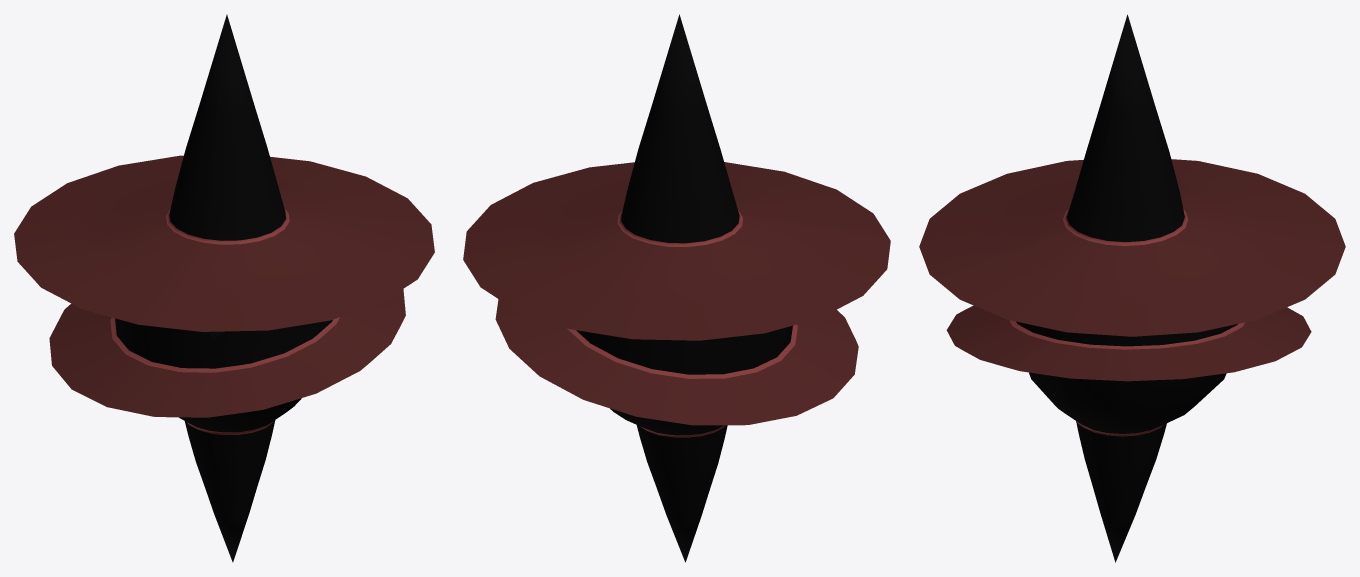
The model's file is beyblade size.fbx.
3 renders of one model, left to right at view 1: azimuth 30°, elevation 25°; view 2: azimuth 150°, elevation 25°; view 3: azimuth 270°, elevation 25°, orthographic.
Parts seen in each view (by area): view 1: pCone5; view 2: pCone5; view 3: pCone5.
Part boxes in pixels (x1,y1,x2,y2): pCone5: (14, 14, 434, 562); pCone5: (463, 14, 890, 562); pCone5: (919, 14, 1345, 562).
Bounding box in the file's own units: 324 × 460 × 324.
